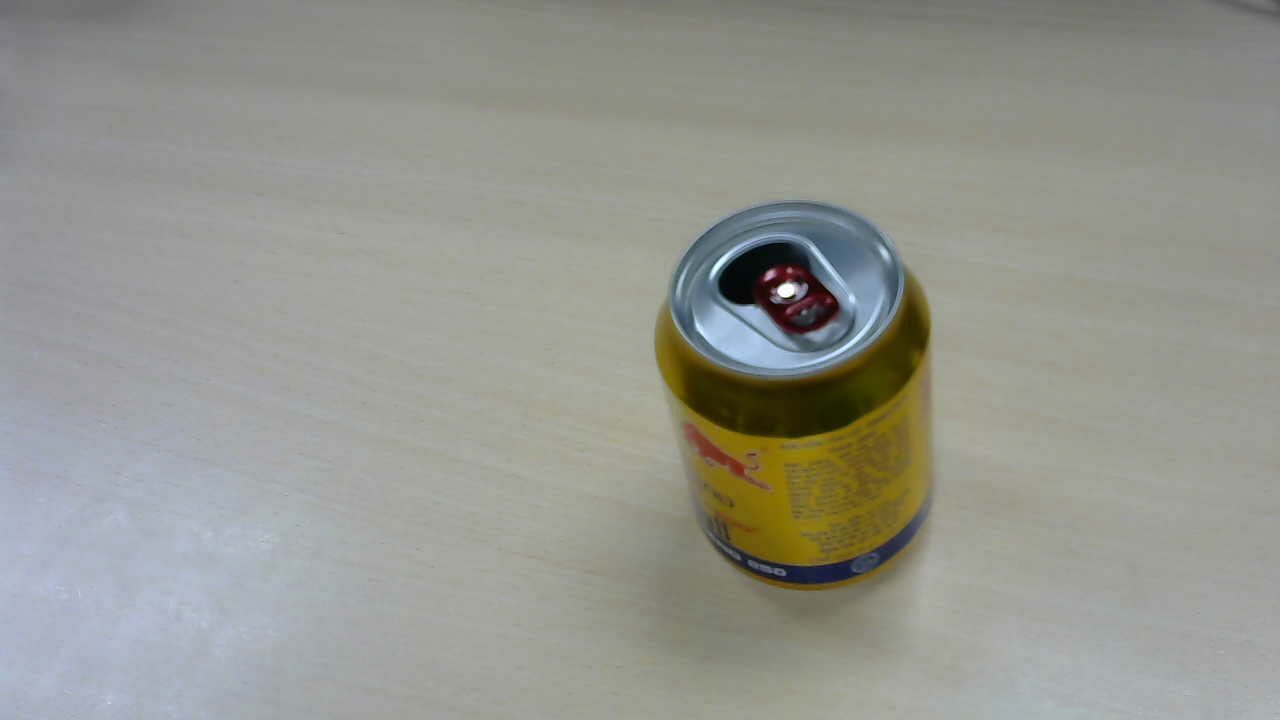Red_Bull: (646, 198, 954, 611)
